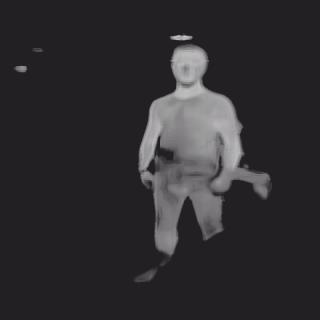Gun: (155, 145, 176, 163)
